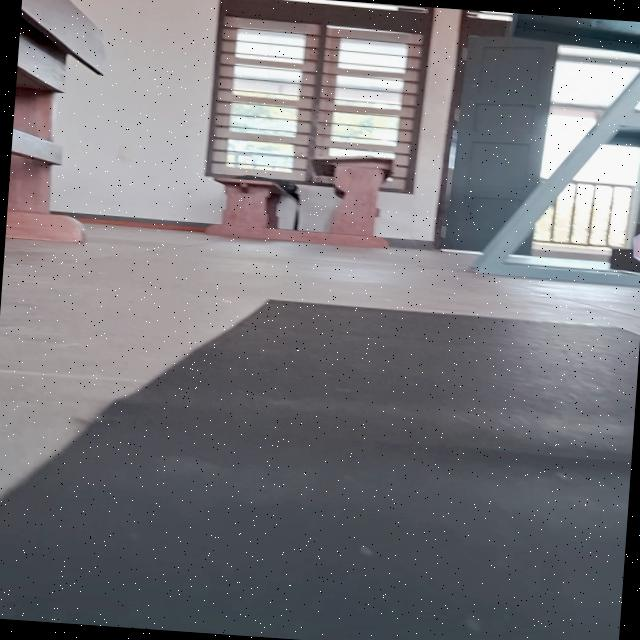Stop: (623, 219, 640, 272)
